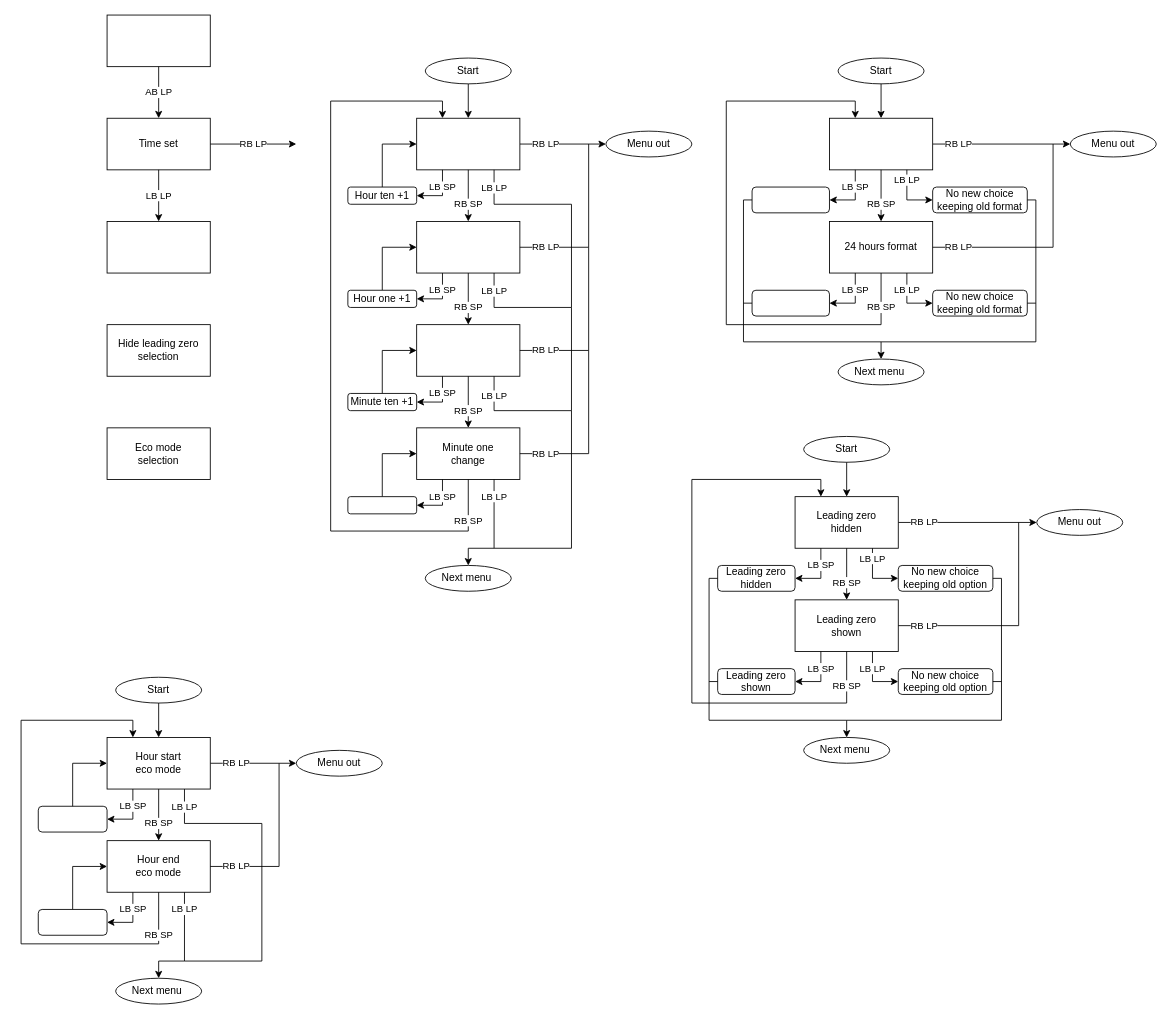
This 1171x1019 diagram has some shape labels left out. The box of each missing label's shape, as (x1, y1, x2, y2) in pixels:
12 hours format: (829, 117, 933, 170)
12 hours format selected: (751, 186, 829, 213)
24 hours format selected: (751, 289, 829, 316)
Display Time: (106, 14, 210, 67)
Hour end eco mode +1: (37, 909, 107, 935)
Hour format selection: (106, 221, 210, 273)
Hour start eco mode +1: (37, 805, 107, 832)
Hour ten change: (416, 117, 520, 170)
Hout one change: (416, 221, 520, 273)
Minute one +1: (347, 496, 417, 514)
Minute ten change: (416, 324, 520, 376)
